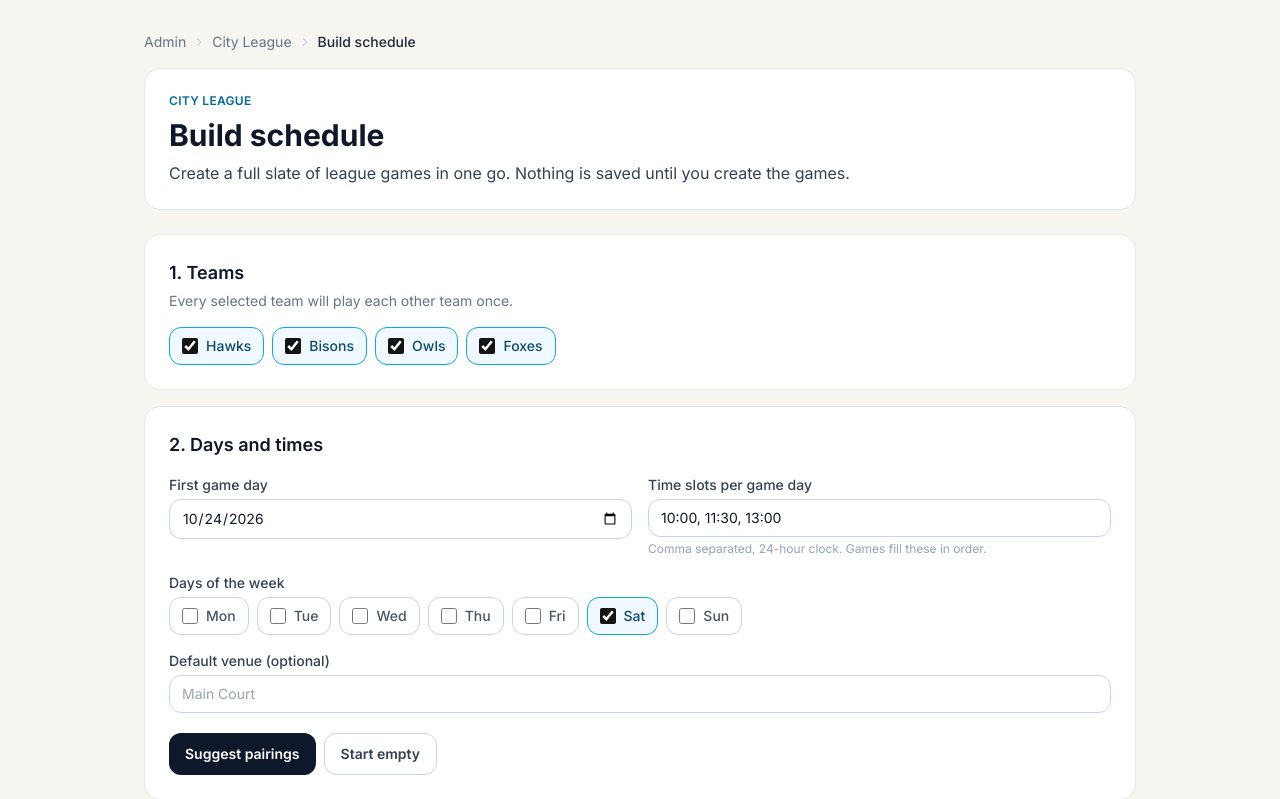
Test: AdminLeagueSchedulePage › blocks committing while a slot overflow is unacknowledged
Expected: the heading "Build schedule" is shown, [169,117,384,153]
Type "10:00" into the field labelled "Time slots per game day" at [880, 518], box [648,499,1111,537]
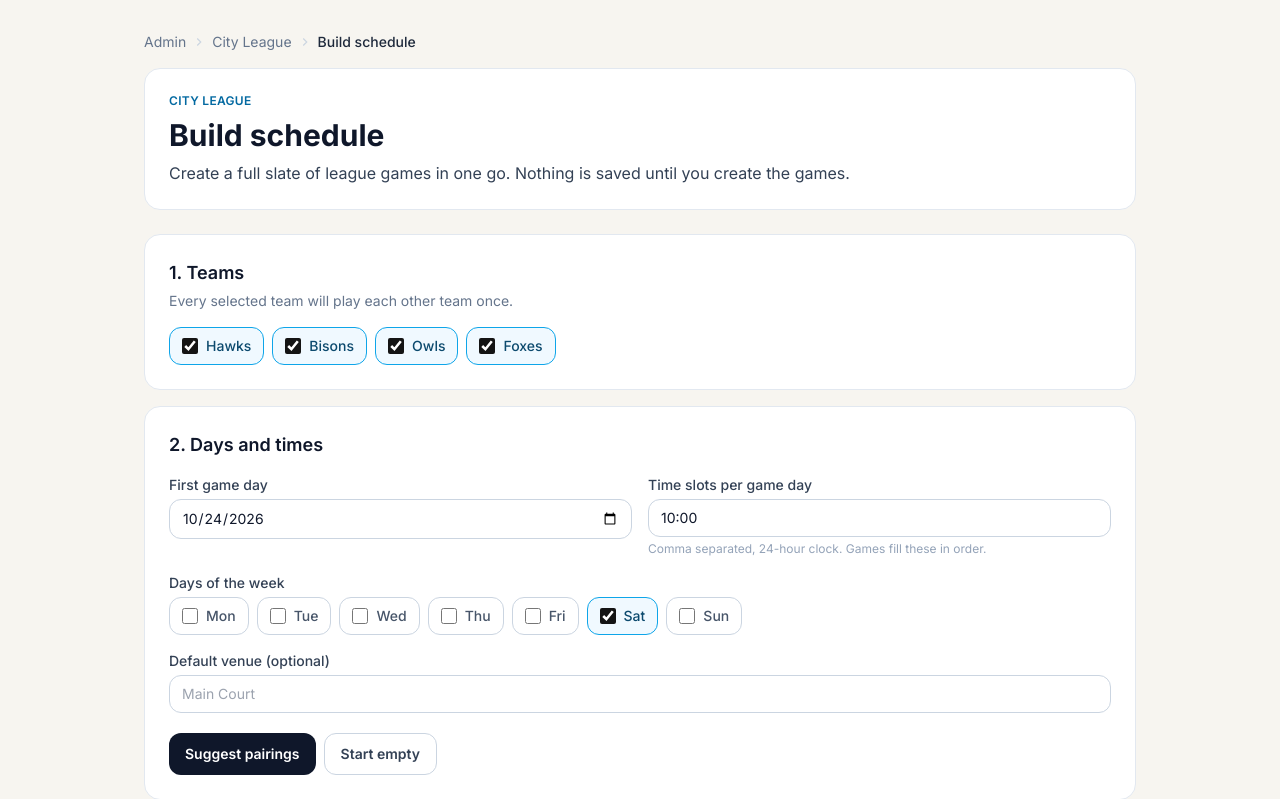
Click the button "Suggest pairings" at [242, 754], box [169,733,316,775]
(page scrolled)
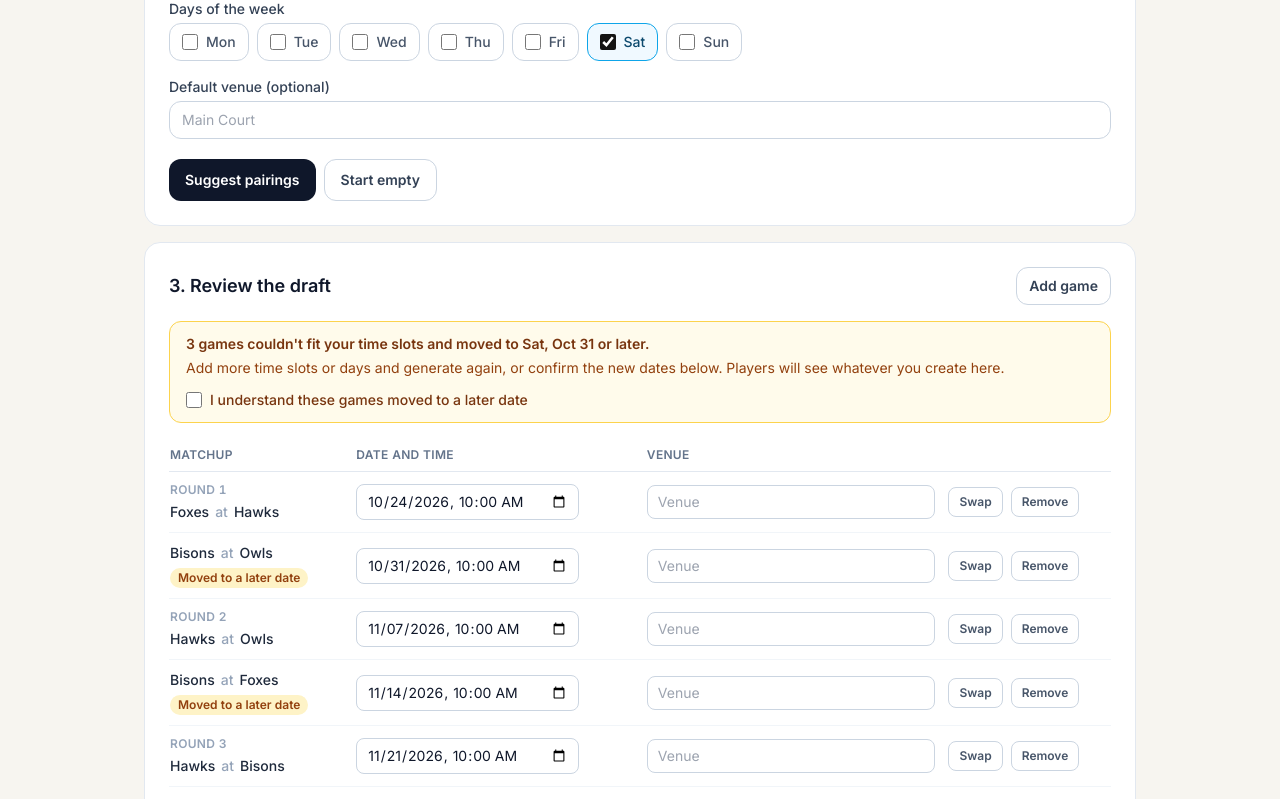
Expected: the text "couldn't fit" is shown, [244,335,424,352]
Click the checkbox labelled "I understand these games moved to a later date" at [194, 400], box [186,392,202,408]
(page scrolled)
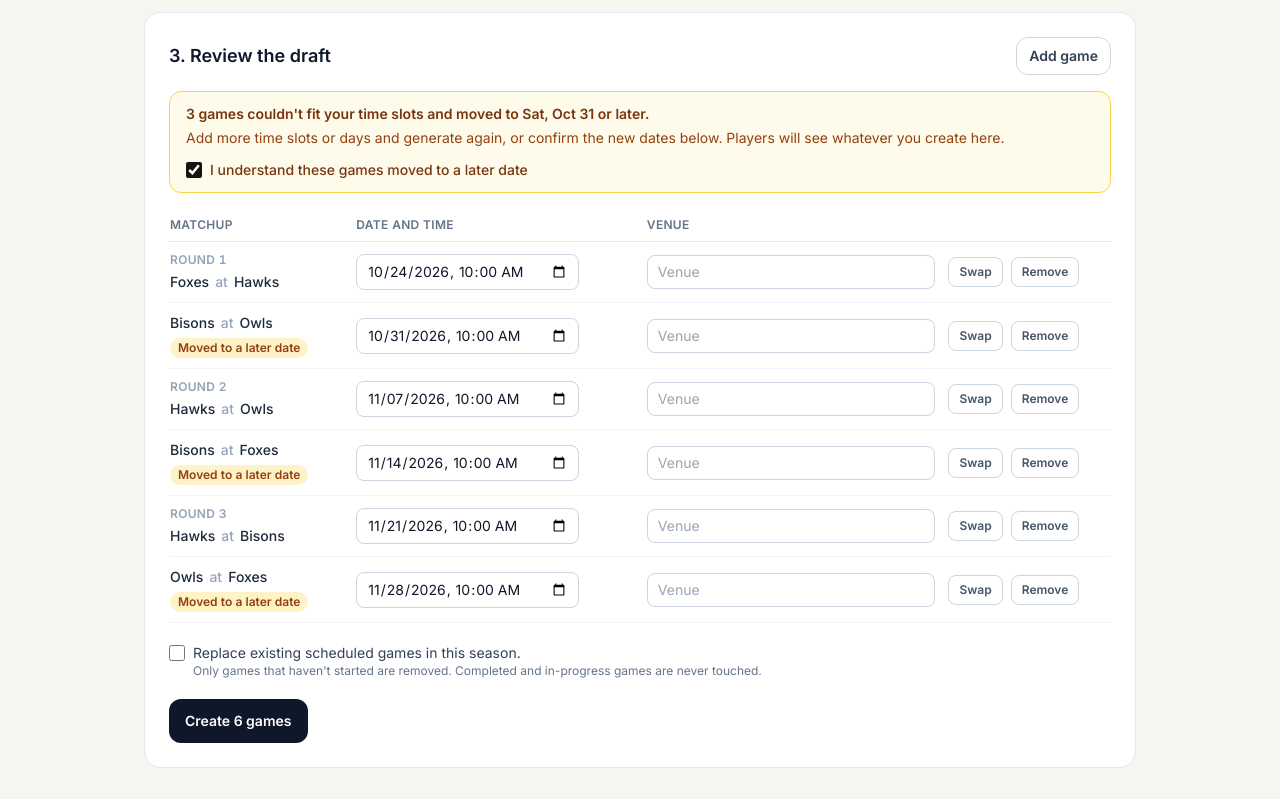
Expected: the button "Create 6 games" is enabled, [169,699,308,743]
